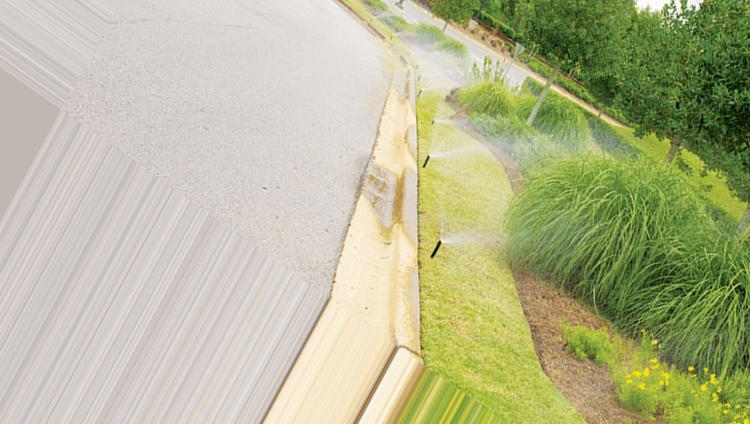patch: (585, 372, 602, 413), (526, 285, 545, 310), (557, 362, 573, 384), (544, 328, 553, 348)
